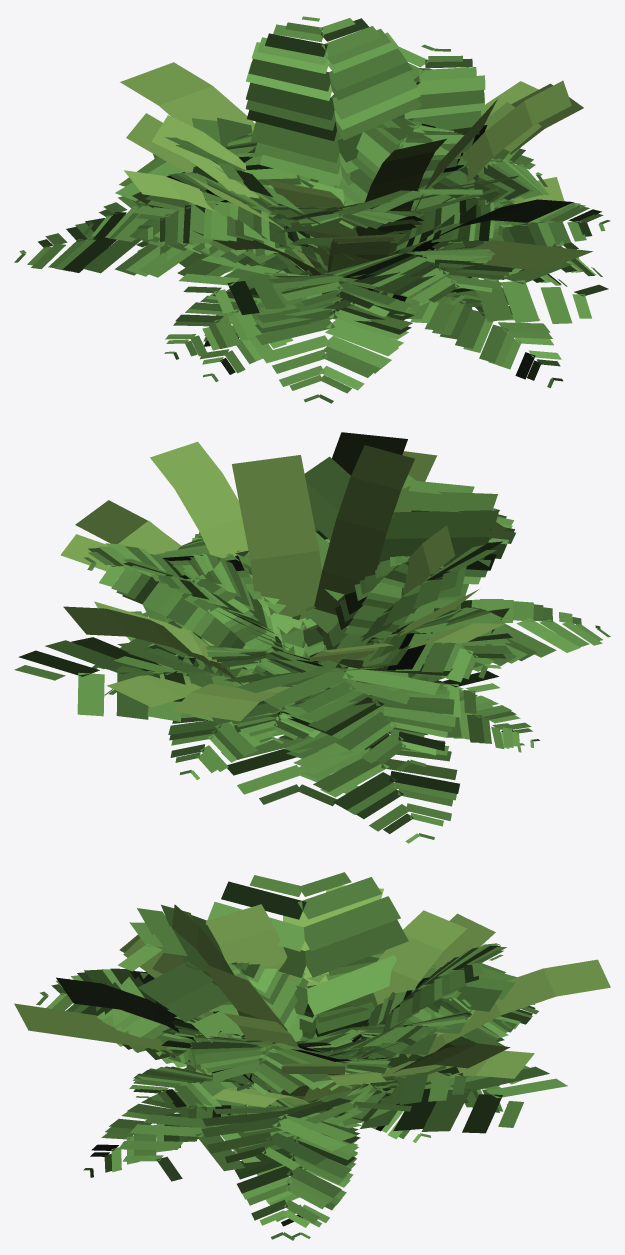
The model's file is ferns.glb.
The picture shows the model from 3 angles, top to bottom: view 1: azimuth 30°, elevation 25°; view 2: azimuth 150°, elevation 25°; view 3: azimuth 270°, elevation 25°; orthographic projection. The views are drawn at different scales.
Visible parts, largest first — view 1: FernB, NestFern, FernA, FernB_lod, FernA_lod, NestFern_lod; view 2: FernB, NestFern, FernA_lod, FernA, NestFern_lod, FernB_lod; view 3: FernA_lod, NestFern, FernA, FernB, FernB_lod, NestFern_lod.
Part boxes in pixels (x1,y1,x2,y2): FernB: (14, 16, 567, 403); NestFern: (120, 62, 583, 291); FernA: (83, 194, 610, 388); FernB_lod: (136, 241, 608, 323); FernA_lod: (115, 117, 578, 316); NestFern_lod: (126, 99, 592, 295); FernB: (83, 508, 610, 843); NestFern: (60, 432, 509, 721); FernA_lod: (114, 456, 502, 737); FernA: (92, 527, 524, 779); NestFern_lod: (94, 451, 479, 694); FernB_lod: (14, 605, 499, 806); FernA_lod: (118, 872, 516, 1170); NestFern: (56, 885, 610, 1115); FernA: (83, 957, 511, 1240); FernB: (36, 943, 538, 1238); FernB_lod: (118, 1054, 567, 1181); NestFern_lod: (14, 910, 495, 1113).
Bounding box in the file's own units: 1.43 × 0.7097 × 1.7.
